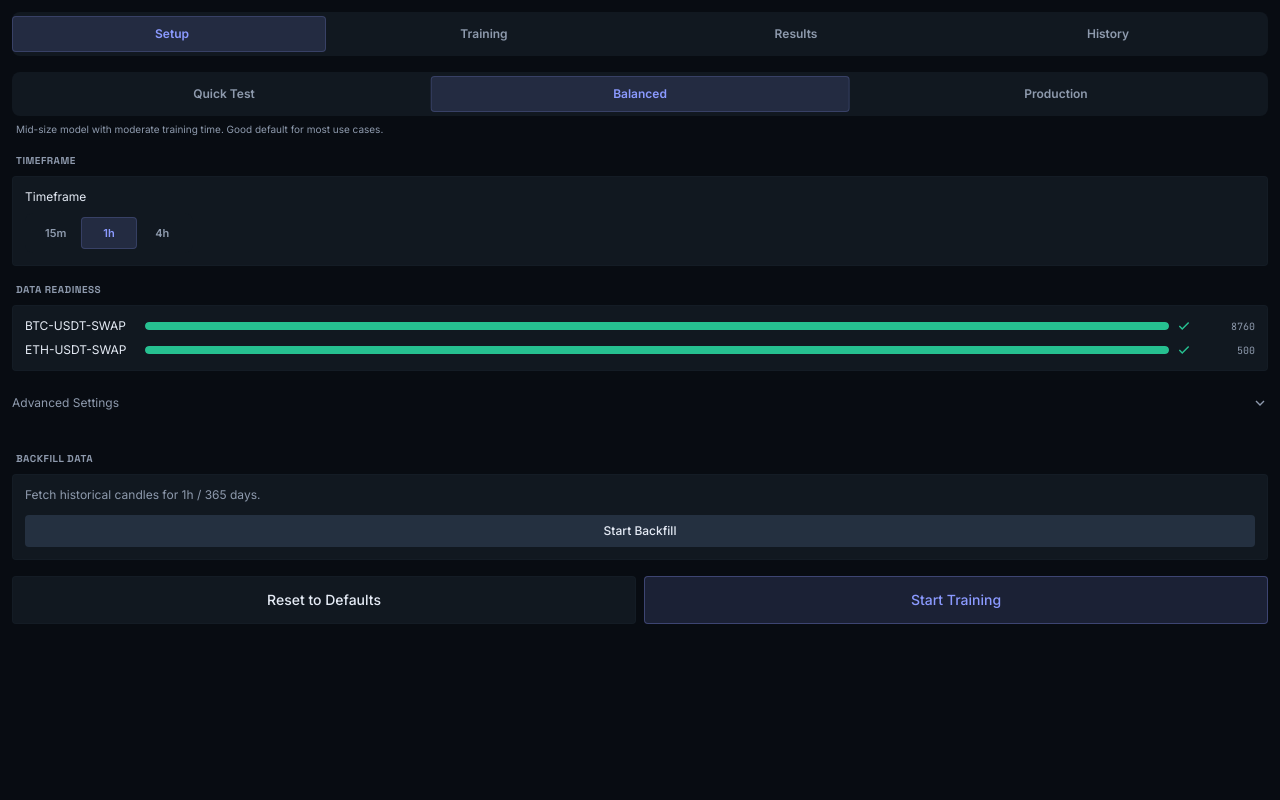
MLTrainingView › Training Tab › should show empty state when no job is active
The width and height of the screenshot is (1280, 800).
Click the button "Training".
click(484, 34)  # box [328,16,640,52]
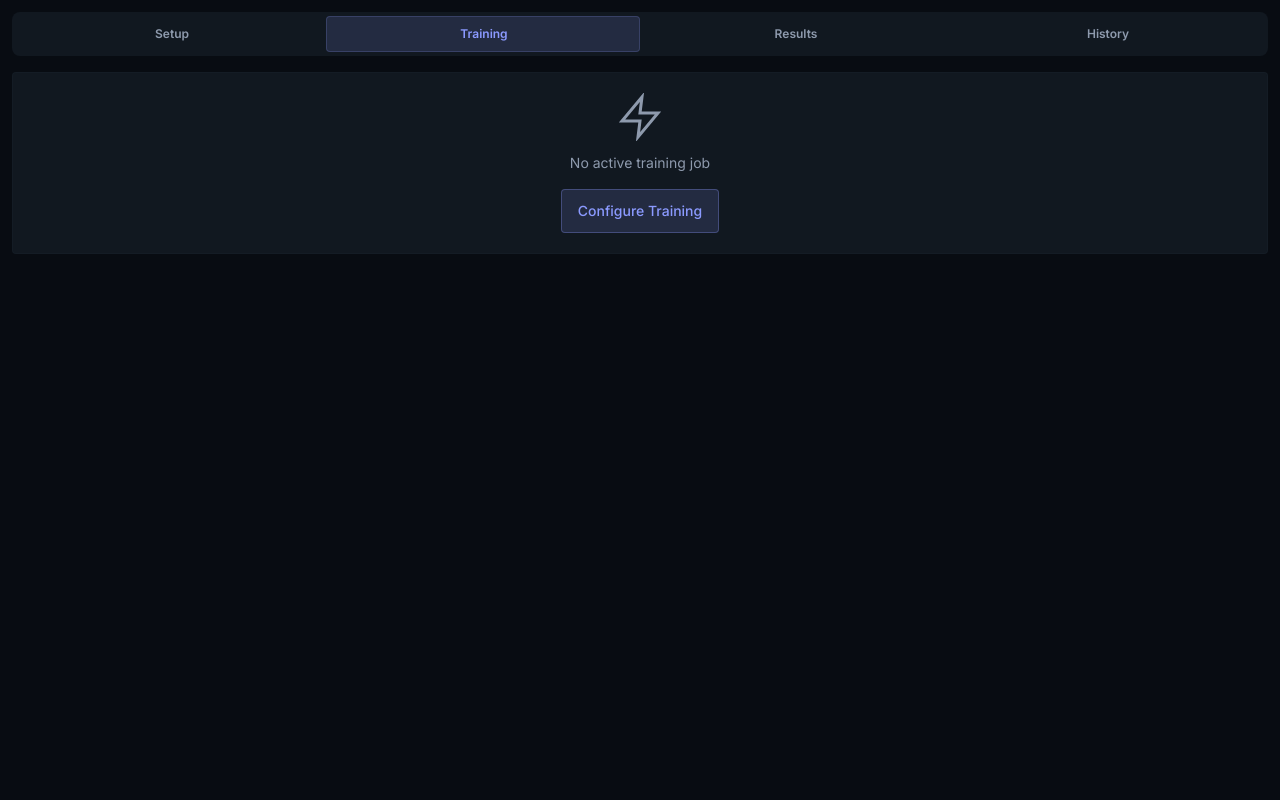
Check: the text "No active training job" is shown, box [570,154,710,171]
